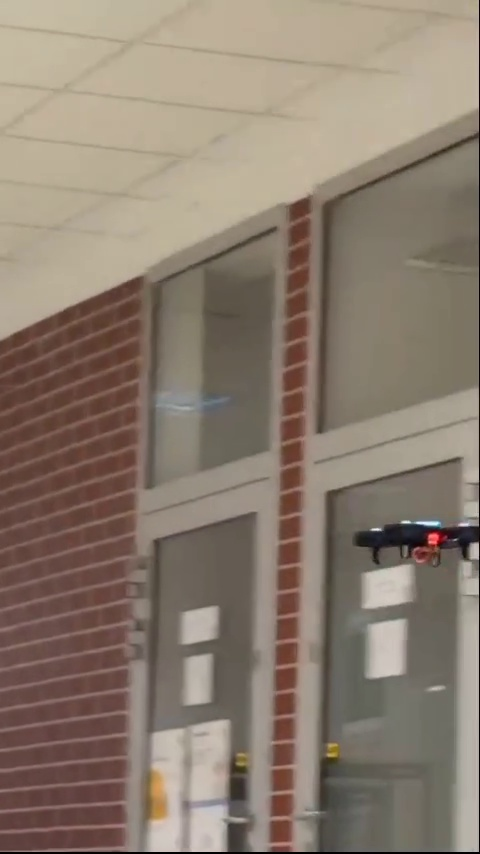drone: (352, 518, 480, 572)
